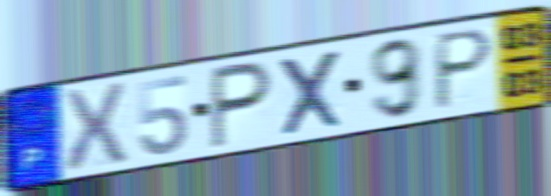5: (136, 72, 190, 158)
9: (366, 35, 425, 123)
P: (208, 58, 275, 152), (431, 26, 497, 114)
X: (274, 47, 346, 140), (61, 80, 130, 177)
